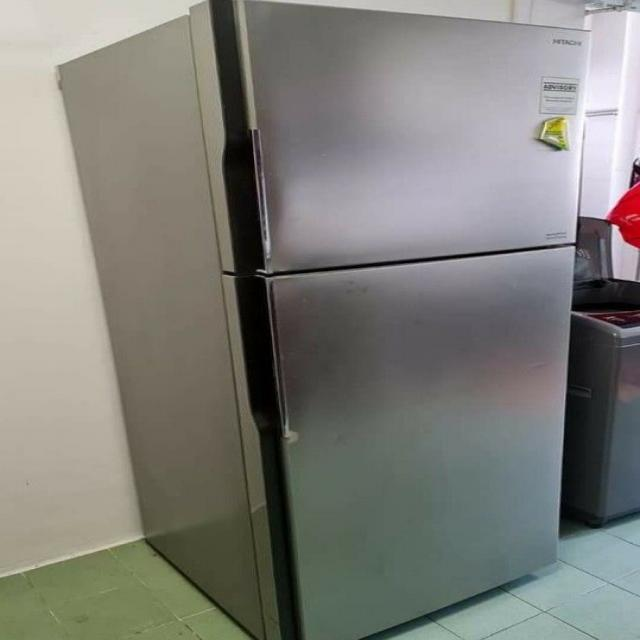refrigerator: (188, 0, 592, 640)
